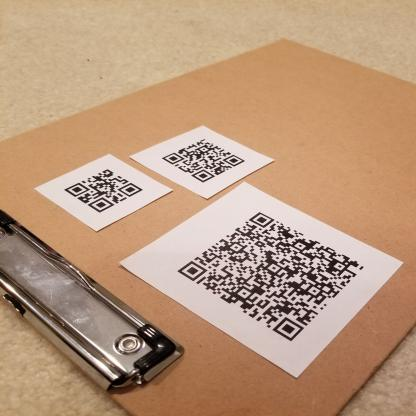qr: (174, 208, 368, 345), (161, 138, 251, 189), (62, 166, 146, 215)
